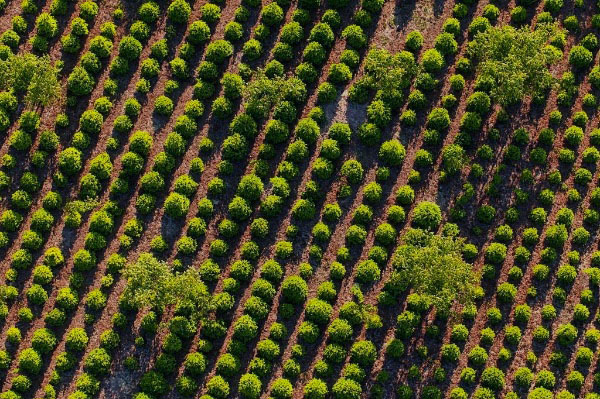TREE: (485, 28, 556, 98), (405, 241, 475, 304), (126, 255, 165, 307), (367, 52, 411, 98), (169, 268, 208, 309), (31, 58, 60, 108), (1, 52, 32, 88), (248, 80, 279, 115), (280, 77, 307, 104), (413, 202, 441, 228), (330, 378, 364, 399), (379, 140, 405, 166), (32, 327, 60, 351), (229, 113, 258, 136), (396, 313, 421, 339), (382, 276, 406, 303), (91, 151, 114, 179), (282, 277, 307, 302), (310, 23, 336, 47), (143, 371, 169, 395), (222, 71, 245, 98), (350, 340, 378, 362), (337, 302, 365, 324), (90, 209, 115, 233), (85, 348, 110, 372), (221, 134, 246, 158), (79, 108, 102, 134), (169, 317, 198, 337), (165, 193, 189, 217), (239, 175, 263, 199), (228, 196, 253, 219), (168, 1, 191, 25), (329, 319, 353, 342), (73, 248, 98, 270), (316, 81, 341, 103), (173, 175, 199, 196), (19, 350, 41, 374), (118, 36, 142, 58), (459, 112, 484, 133), (306, 301, 333, 320), (344, 24, 367, 46), (273, 42, 295, 65), (435, 33, 459, 54), (258, 260, 283, 280), (291, 199, 316, 219), (445, 146, 464, 172), (65, 328, 87, 350), (32, 208, 54, 230), (59, 148, 81, 170), (266, 120, 288, 142), (569, 227, 591, 249), (86, 290, 107, 313), (151, 38, 174, 59), (139, 1, 160, 24), (190, 21, 211, 44), (131, 131, 152, 154), (155, 352, 178, 373), (235, 316, 258, 337), (69, 71, 93, 91), (57, 288, 77, 312), (305, 42, 325, 66), (423, 50, 447, 70), (468, 17, 492, 37), (556, 324, 580, 344), (199, 319, 225, 337), (304, 379, 330, 397), (282, 24, 303, 46), (269, 176, 291, 197), (232, 260, 253, 282), (342, 160, 363, 182), (358, 261, 380, 282), (369, 101, 392, 121), (242, 375, 262, 398), (483, 367, 506, 387), (570, 48, 593, 68), (549, 24, 569, 47), (183, 353, 207, 372), (517, 365, 534, 391), (121, 154, 142, 175), (300, 121, 321, 142), (359, 122, 380, 143), (61, 207, 83, 227), (287, 140, 309, 160), (485, 242, 507, 262), (211, 40, 234, 59), (141, 174, 164, 193), (78, 373, 101, 392), (254, 278, 277, 297), (315, 281, 338, 300), (343, 362, 366, 381), (323, 344, 346, 363), (10, 130, 30, 151), (242, 39, 263, 59), (136, 194, 156, 215), (313, 157, 333, 178), (346, 225, 366, 246), (376, 223, 397, 243), (28, 284, 47, 306), (44, 248, 66, 267), (167, 135, 186, 157), (98, 330, 120, 349), (217, 219, 239, 238), (406, 90, 428, 109), (404, 230, 427, 248), (245, 298, 269, 315), (20, 172, 40, 192), (201, 260, 221, 280), (211, 294, 236, 310), (322, 138, 342, 158), (546, 225, 566, 245), (564, 127, 584, 147), (37, 15, 56, 36), (80, 174, 99, 195), (106, 253, 125, 274), (262, 196, 283, 215), (429, 109, 450, 128), (91, 38, 113, 56), (1, 211, 23, 229), (213, 98, 231, 120), (174, 117, 196, 135), (331, 122, 353, 140), (272, 379, 294, 397), (329, 64, 352, 81), (216, 354, 239, 371), (11, 250, 31, 269), (46, 308, 66, 327), (113, 114, 133, 133), (201, 3, 221, 22), (170, 58, 190, 77), (263, 5, 282, 25), (209, 239, 229, 258), (351, 81, 370, 101), (415, 148, 434, 168), (469, 93, 489, 112), (566, 370, 585, 390), (177, 377, 198, 395), (558, 150, 574, 173), (398, 110, 417, 129), (456, 184, 475, 203), (83, 53, 101, 73), (13, 191, 33, 209), (194, 81, 214, 99), (156, 153, 174, 173), (386, 340, 406, 358), (470, 347, 488, 367), (497, 283, 517, 301), (539, 128, 557, 148), (275, 241, 296, 258), (275, 303, 296, 320), (257, 341, 280, 356), (297, 64, 316, 82), (276, 102, 295, 120), (241, 241, 259, 260), (364, 184, 382, 203), (397, 186, 415, 205), (530, 206, 549, 224), (56, 353, 76, 370), (130, 21, 150, 38), (154, 96, 174, 113), (178, 238, 198, 255), (253, 160, 273, 177), (280, 162, 300, 179), (298, 323, 318, 340), (578, 347, 595, 367), (477, 205, 497, 222), (477, 145, 497, 162), (207, 375, 228, 391), (83, 234, 105, 249), (21, 112, 39, 130), (124, 98, 142, 116), (452, 2, 470, 20), (453, 325, 471, 343), (45, 191, 62, 210), (321, 9, 340, 26), (389, 206, 406, 225), (557, 92, 576, 109), (125, 220, 145, 236), (456, 133, 476, 149), (539, 248, 559, 264), (558, 207, 574, 227), (103, 199, 121, 216), (95, 97, 113, 114), (111, 57, 129, 74), (226, 22, 243, 40), (189, 218, 207, 235), (252, 218, 269, 236), (337, 184, 355, 201), (354, 206, 372, 223), (370, 244, 387, 262), (367, 314, 385, 331), (537, 370, 555, 387), (514, 305, 531, 323), (187, 100, 206, 116), (165, 333, 181, 352), (330, 262, 346, 281), (455, 58, 474, 74), (573, 169, 592, 185), (534, 10, 555, 24), (72, 18, 89, 35), (343, 49, 360, 66), (200, 62, 217, 79), (266, 60, 283, 77), (575, 304, 592, 321), (450, 204, 467, 221), (531, 148, 548, 165), (42, 132, 58, 150), (35, 267, 53, 283), (71, 131, 89, 147), (406, 30, 422, 48), (480, 328, 496, 346), (531, 265, 549, 281), (584, 210, 600, 228), (22, 231, 41, 246), (216, 160, 235, 175), (494, 225, 513, 240), (558, 266, 577, 281), (282, 360, 302, 374), (100, 21, 117, 37), (32, 152, 48, 169), (68, 271, 84, 288), (104, 78, 120, 95), (143, 58, 159, 75), (234, 6, 251, 22), (200, 137, 216, 154), (207, 176, 224, 192), (315, 223, 331, 240), (444, 19, 461, 35), (444, 345, 461, 361), (486, 307, 502, 324), (485, 183, 502, 199), (512, 128, 529, 144), (582, 147, 599, 163), (1, 285, 19, 300), (111, 179, 129, 194), (309, 105, 324, 123), (151, 236, 169, 251), (250, 357, 268, 372), (462, 303, 477, 321), (417, 74, 436, 88), (424, 385, 443, 399), (516, 248, 532, 264), (80, 2, 97, 17), (325, 204, 342, 219), (450, 74, 465, 91), (511, 6, 526, 23), (505, 328, 522, 343), (13, 375, 31, 389), (198, 199, 216, 213), (581, 33, 599, 47), (1, 94, 17, 109), (136, 78, 151, 94), (141, 310, 153, 330), (482, 4, 498, 19), (522, 229, 538, 244), (505, 207, 521, 222), (505, 146, 520, 162), (2, 31, 19, 45), (56, 115, 70, 132), (258, 143, 275, 157), (462, 368, 476, 385), (223, 278, 241, 291), (531, 389, 554, 399), (30, 38, 49, 50), (550, 352, 569, 364), (309, 245, 324, 260), (541, 190, 556, 205), (295, 9, 311, 23), (355, 11, 371, 25), (375, 167, 391, 181), (406, 169, 422, 183), (424, 130, 438, 146), (480, 265, 497, 278), (12, 17, 27, 31), (7, 330, 22, 344), (19, 308, 33, 323), (238, 64, 253, 78), (112, 314, 127, 328), (351, 285, 365, 300), (499, 347, 513, 362), (472, 163, 486, 178), (487, 128, 501, 143), (63, 36, 79, 49), (191, 159, 204, 175), (305, 181, 318, 197), (337, 247, 353, 260), (433, 366, 446, 382), (548, 170, 561, 186), (575, 111, 588, 127), (451, 387, 468, 399), (66, 391, 91, 399), (542, 305, 556, 319), (564, 14, 578, 28), (272, 324, 287, 337), (509, 266, 524, 279), (199, 340, 215, 352), (227, 340, 243, 352), (462, 244, 478, 256), (533, 328, 549, 340), (52, 1, 66, 14), (107, 137, 120, 151), (181, 44, 194, 58), (119, 236, 132, 250), (122, 357, 136, 370), (378, 370, 391, 384), (516, 190, 530, 203), (522, 170, 535, 184), (22, 1, 37, 13), (314, 362, 329, 374), (474, 389, 492, 399), (590, 268, 600, 286), (589, 128, 600, 144), (1, 352, 10, 371), (101, 274, 114, 287), (409, 366, 422, 379), (550, 111, 563, 124), (557, 391, 578, 399), (553, 287, 565, 301), (581, 289, 593, 303), (364, 1, 385, 9), (567, 191, 582, 202), (1, 391, 21, 399), (569, 249, 579, 265), (590, 187, 600, 203), (590, 69, 600, 85), (3, 155, 16, 167), (5, 269, 18, 281), (166, 79, 179, 91), (257, 26, 270, 38), (400, 386, 413, 398), (526, 287, 539, 299), (561, 71, 574, 83), (291, 345, 306, 355), (1, 113, 9, 131), (418, 346, 430, 358), (547, 1, 565, 9), (299, 264, 312, 275), (584, 95, 597, 106), (445, 225, 459, 235), (591, 250, 600, 265), (173, 259, 184, 271), (285, 226, 297, 237), (526, 351, 537, 362), (114, 9, 124, 21), (1, 234, 9, 249), (592, 13, 600, 28), (47, 386, 56, 399), (135, 337, 145, 348), (444, 96, 455, 106), (1, 303, 7, 320), (507, 392, 519, 399), (473, 227, 483, 235), (429, 327, 440, 334), (53, 372, 60, 382)
